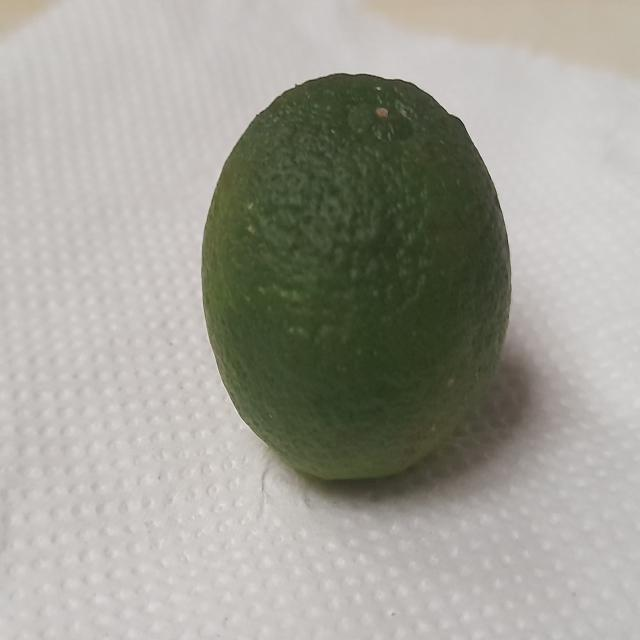heathy: (194, 54, 526, 503)
